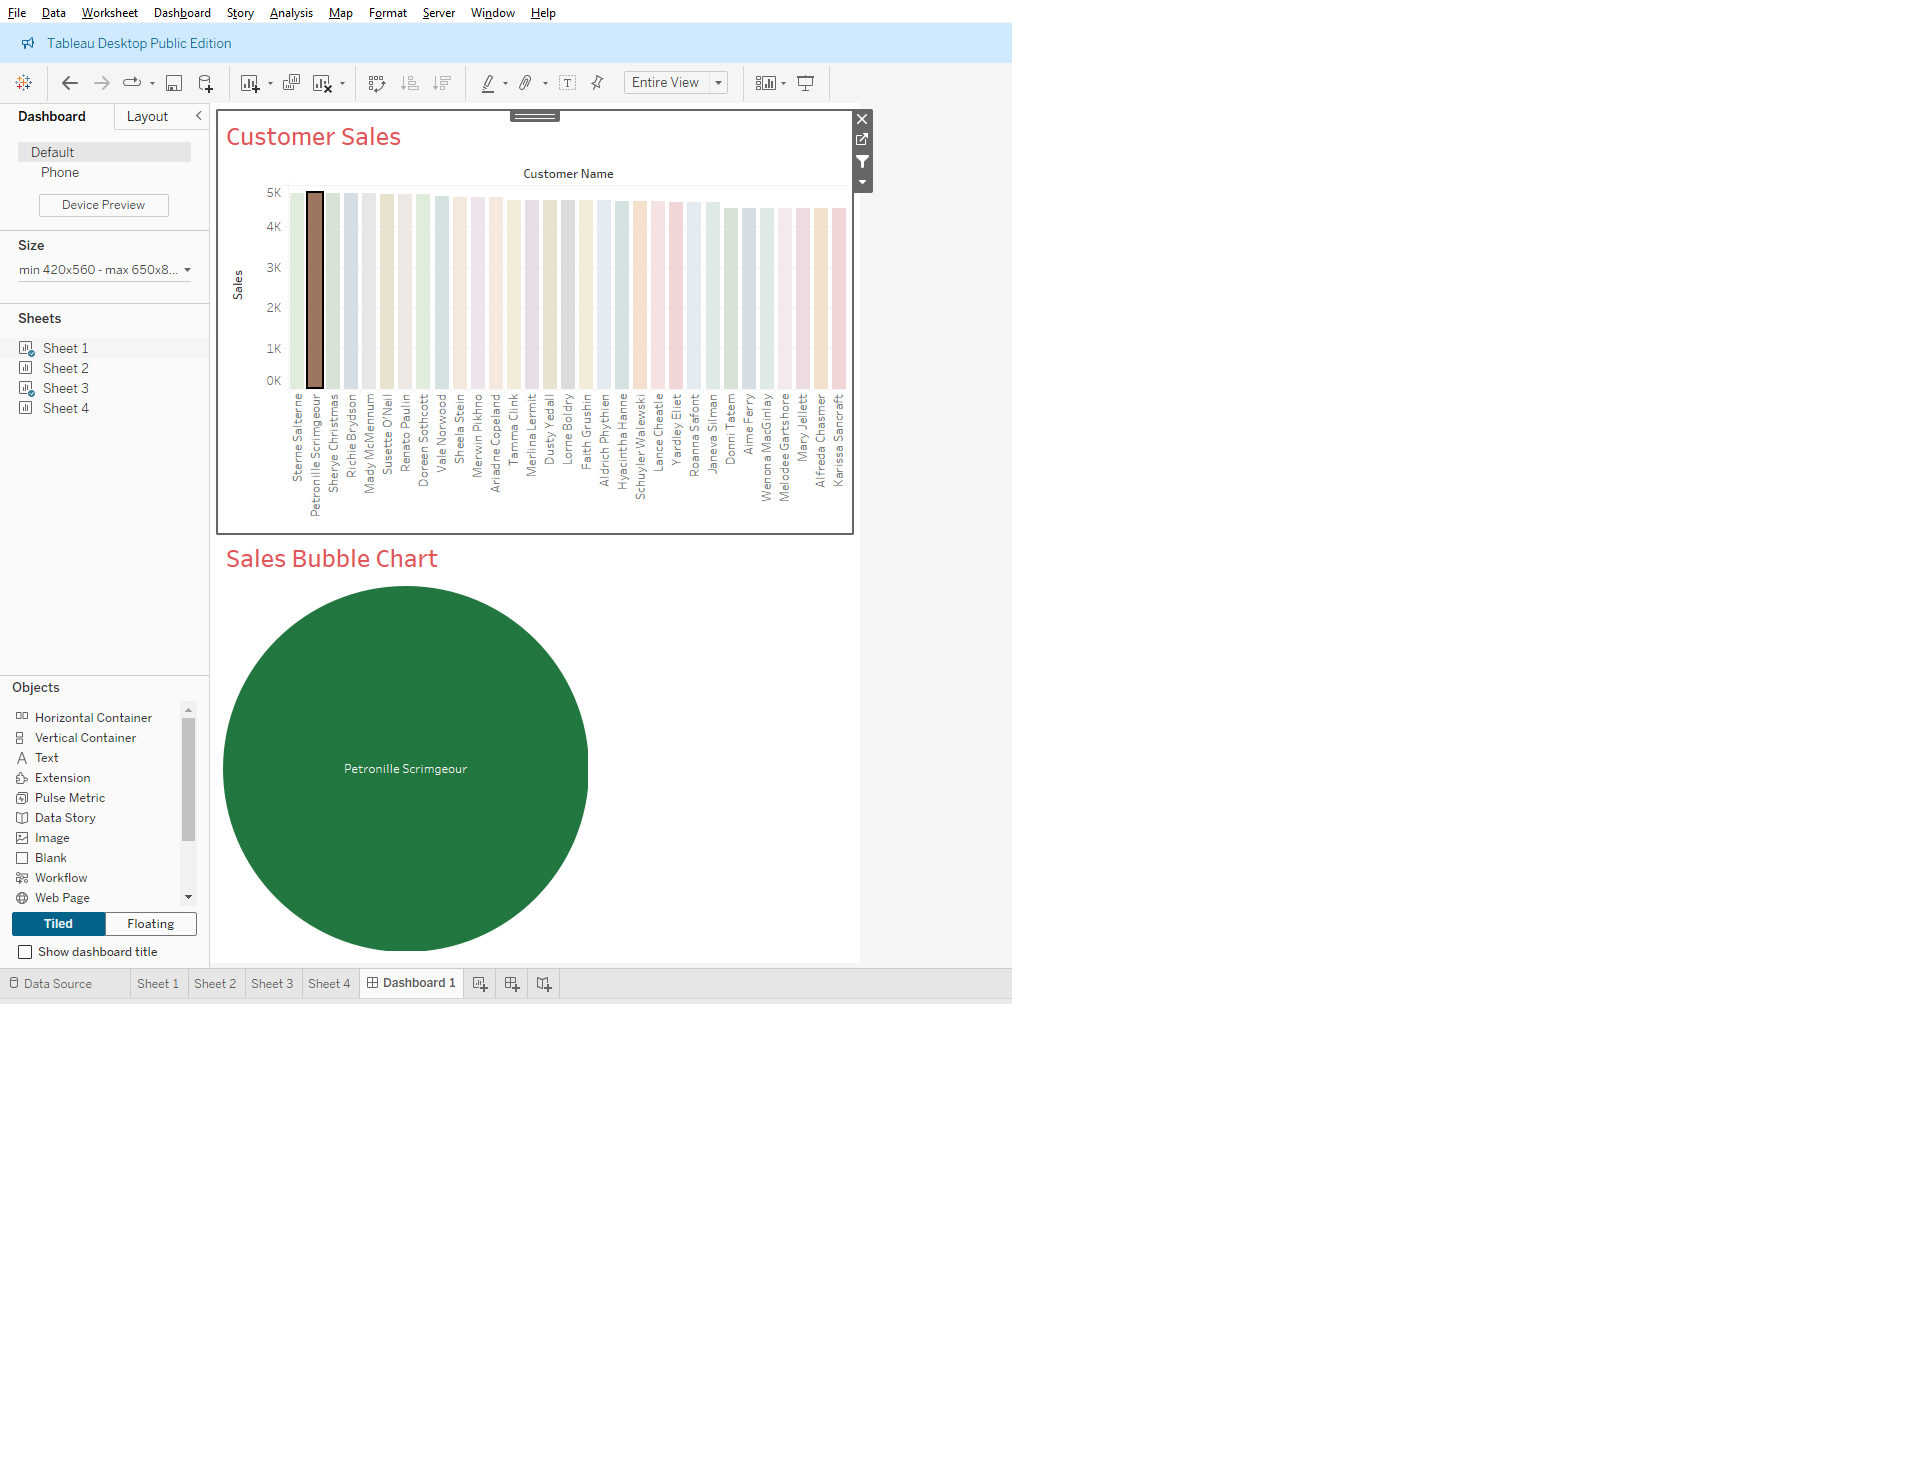

This screenshot's page, from the dashboard's own definition file:
{"tool":"tableau","page":{"name":"Dashboard 1","canvas":[650,860],"ordinal":0},"visuals":[{"type":"worksheet","title":"Sheet 1","mark":"Automatic","rows":["Sales"],"cols":["Customer Name"],"box":[8,8,634,422]},{"type":"worksheet","title":"Sheet 3","mark":"Circle","box":[8,430,634,422]}]}

Visuals, with their boxes on the page's 650x860 design canvas (x1, y1, x2, y2). These are canvas units, not pixel positions in the 1920x1466 screenshot, which may show the page scaled, cropped or inside an application window:
"Sheet 1" worksheet: box=[8, 8, 642, 430]
"Sheet 3" worksheet (Circle marks): box=[8, 430, 642, 852]
